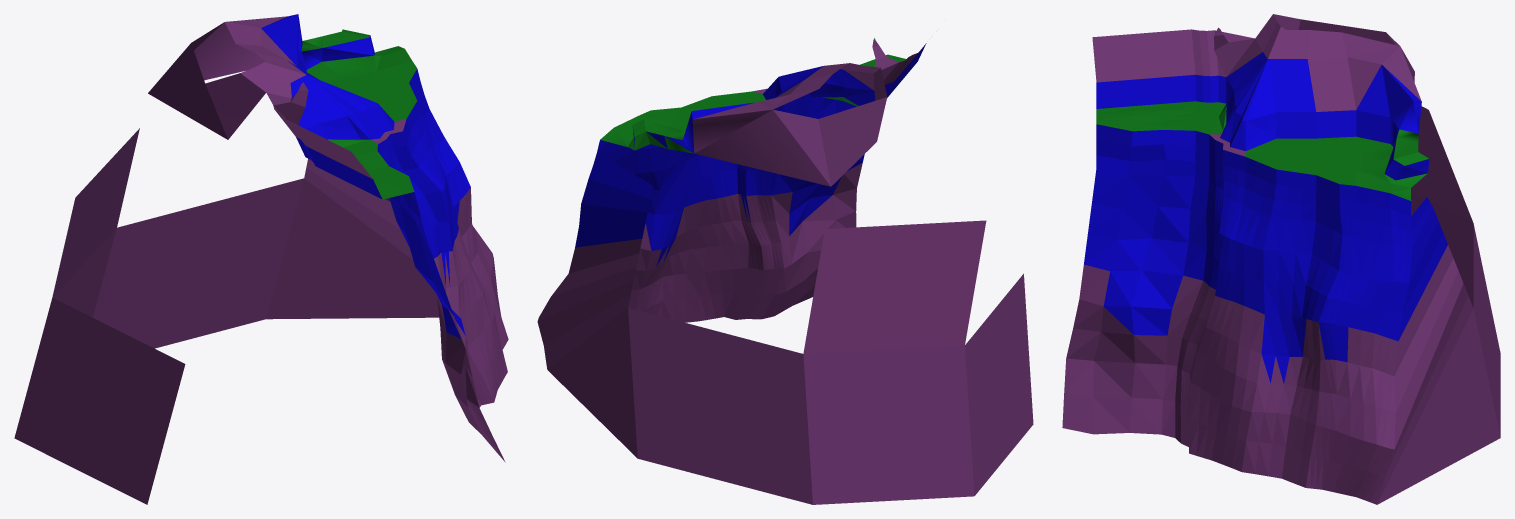
File: cliffpainted.fbx
3 views of the same model, side by side, from view 1: azimuth 30°, elevation 25°; view 2: azimuth 150°, elevation 25°; view 3: azimuth 270°, elevation 25° (orthographic). The views are drawn at different scales.
Visible parts, largest first — view 1: ForestLand; view 2: ForestLand; view 3: ForestLand.
Boxes of the visible parts, x1,y1,x2,y2 form: ForestLand: [14, 14, 508, 504]; ForestLand: [537, 38, 1033, 504]; ForestLand: [1062, 14, 1500, 504].
Bounding box in the file's own units: 30623 × 23585 × 25470.
